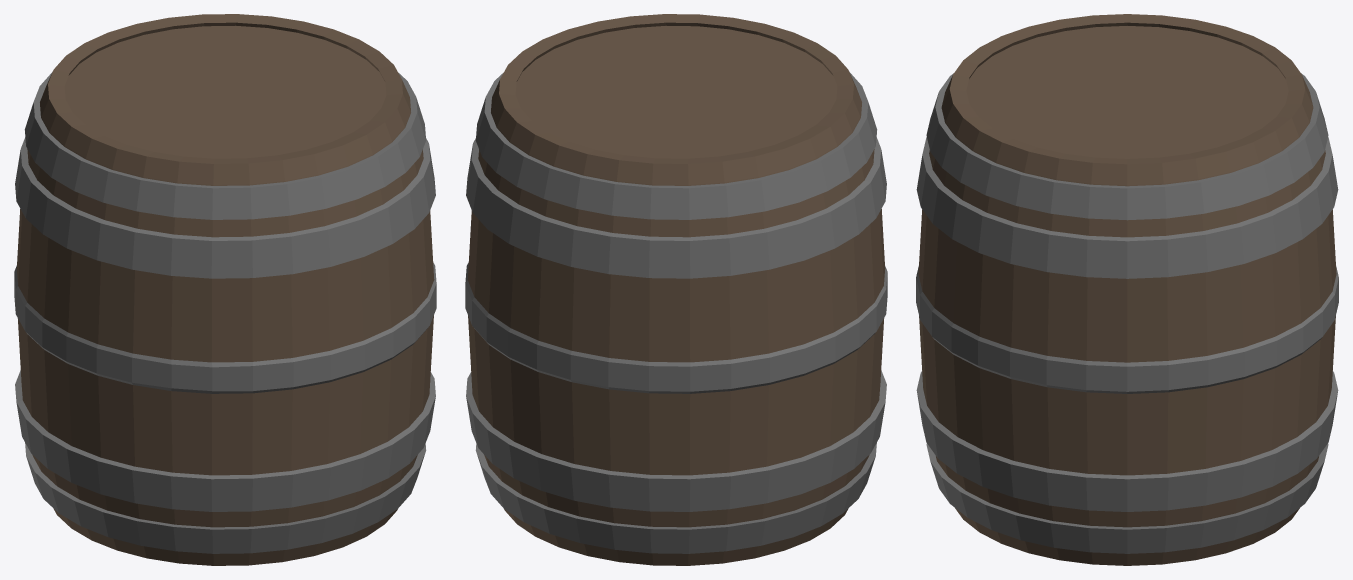
File: barrel-MODEL.fbx
3 views of the same model, side by side, from view 1: azimuth 30°, elevation 25°; view 2: azimuth 150°, elevation 25°; view 3: azimuth 270°, elevation 25° (orthographic).
Parts seen in each view (by area): view 1: Cylinder; view 2: Cylinder; view 3: Cylinder.
Part boxes in pixels (bbox=[...]): Cylinder: bbox=[14, 14, 436, 565]; Cylinder: bbox=[465, 14, 887, 565]; Cylinder: bbox=[916, 14, 1338, 565].
Bounding box in the file's own units: 389 × 407 × 389.
